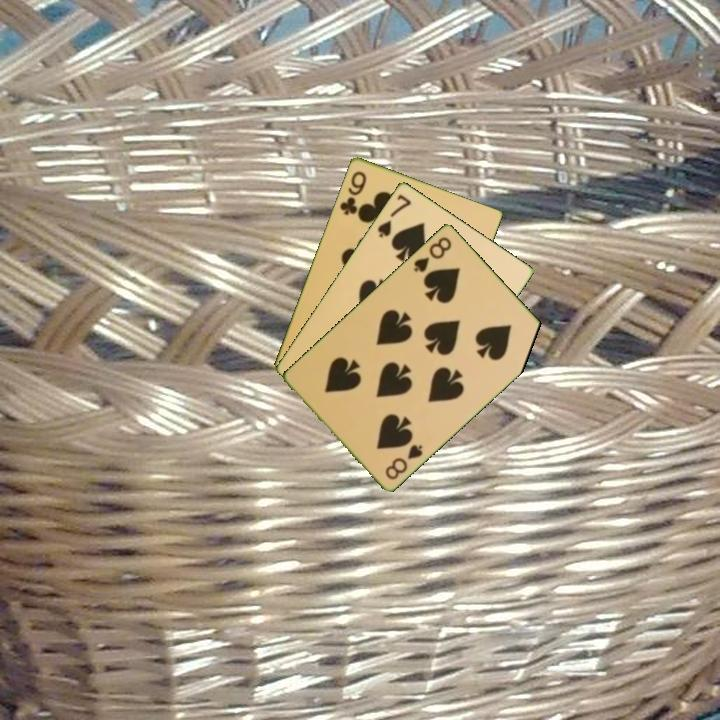7s: (373, 190, 414, 241)
8s: (410, 233, 454, 275), (382, 440, 426, 482)
9c: (336, 167, 369, 218)
